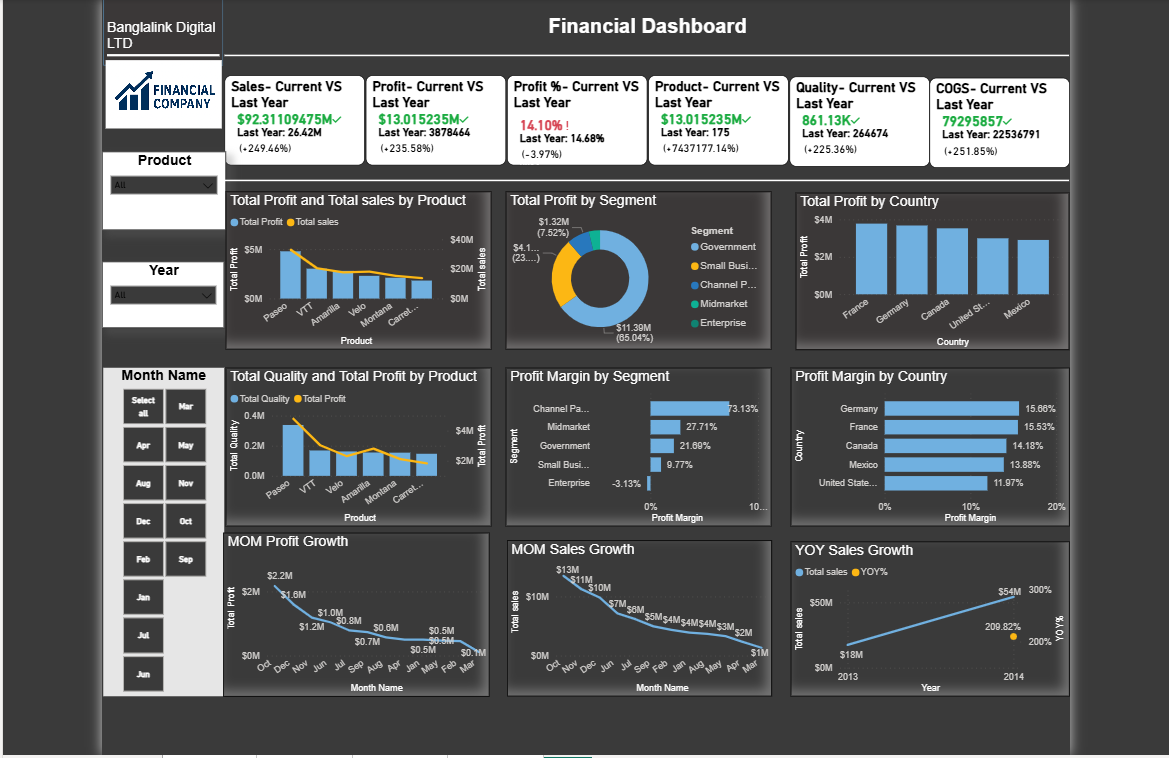

The page's visual inventory and layout, read from the dashboard file:
{"tool":"powerbi","page":{"name":"Page 1","canvas":[1280,1000],"ordinal":0},"visuals":[{"type":"shape","box":[1.7,0,158.7,88],"z":2},{"type":"shape","box":[161.9,67.2,1117,13.7],"z":3},{"type":"kpi","title":"Sales- Current VS Last Year","fields":{"Indicator":["Measure.Total sales"],"TrendLine":["DateMaster.Year"],"Goal":["Measure.Last Year Sales"]},"box":[161.9,100.2,185.2,119.4],"z":12},{"type":"kpi","title":"Profit- Current VS Last Year","fields":{"TrendLine":["DateMaster.Year"],"Indicator":["Measure.Total Profit"],"Goal":["Measure.Last Year Profit"]},"box":[348.5,100.2,185.2,119.4],"z":13},{"type":"kpi","title":"Profit %- Current VS Last Year","fields":{"TrendLine":["DateMaster.Year"],"Indicator":["Measure.Profit Margin"],"Goal":["Measure.last year profit %"]},"box":[535.2,101.5,185.2,119.4],"z":14},{"type":"kpi","title":"Product- Current VS Last Year","fields":{"TrendLine":["DateMaster.Year"],"Indicator":["Measure.Total Profit"],"Goal":["Measure.last year product"]},"box":[721.8,101.5,185.2,119.4],"z":15},{"type":"kpi","title":"Quality- Current VS Last Year","fields":{"TrendLine":["DateMaster.Year"],"Indicator":["Measure.Total Quality"],"Goal":["Measure.Last Year Quality"]},"box":[908.4,102.9,185.2,119.4],"z":16},{"type":"kpi","title":"COGS- Current VS Last Year","fields":{"TrendLine":["DateMaster.Year"],"Indicator":["Measure.COGS"],"Goal":["Measure.Last Year COGS"]},"box":[1095,104.3,185.2,119.4],"z":17},{"type":"slicer","title":"Product","fields":{"Values":["financials.Product"]},"box":[0,201.7,163.6,104.1],"z":18},{"type":"shape","box":[161.9,233.3,1117,13.7],"z":19},{"type":"slicer","title":"Year","fields":{"Values":["DateMaster.Year"]},"box":[0,347.1,162,87.6],"z":20},{"type":"slicer","title":"Month Name","fields":{"Values":["DateMaster.Month Name"]},"box":[1.7,487.6,160.3,434.7],"z":21},{"type":"shape","title":"Financial Dashboard","box":[163.3,22,1115.6,32.9],"z":22},{"type":"lineClusteredColumnComboChart","fields":{"Y":["Measure.Total Profit"],"Category":["financials.Product"],"Y2":["Measure.Total sales"]},"box":[163.3,253.9,351.3,208.6],"z":23},{"type":"lineClusteredColumnComboChart","fields":{"Y":["Measure.Total Quality"],"Category":["financials.Product"],"Y2":["Measure.Total Profit"]},"box":[163.3,487.1,351.3,209.9],"z":24},{"type":"donutChart","fields":{"Category":["financials.Segment"],"Y":["Measure.Total Profit"]},"box":[533.8,255.2,351.3,208.6],"z":25},{"type":"clusteredColumnChart","fields":{"Category":["financials.Country"],"Y":["Measure.Total Profit"]},"box":[917.4,256.2,362,208.3],"z":26},{"type":"barChart","fields":{"Y":["Measure.Profit Margin"],"Category":["financials.Segment"]},"box":[533.8,487.1,351.3,209.9],"z":27},{"type":"lineChart","title":"MOM Sales Growth","fields":{"Category":["DateMaster.Month Name"],"Y":["Measure.Total sales"]},"box":[535.5,715.7,350.4,206.6],"z":29},{"type":"lineChart","title":"YOY Sales Growth","fields":{"Category":["DateMaster.Year"],"Y":["Measure.Total sales"],"Y2":["Measure.YOY%"]},"box":[910.7,717.4,368.6,205],"z":30},{"type":"lineChart","title":"MOM Profit Growth","fields":{"Category":["DateMaster.Month Name"],"Y":["Measure.Total Profit"]},"box":[160.3,705.8,352.1,216.5],"z":31},{"type":"barChart","fields":{"Y":["Measure.Profit Margin"],"Category":["financials.Country"]},"box":[910.7,487.6,368.6,209.9],"z":32},{"type":"image","box":[0,76,163.6,100],"z":33},{"type":"shape","title":"Banglalink Digital LTD","box":[6.6,26.4,148.8,49.6],"z":34}]}

Visuals, with their boxes on the page's 1280x1000 design canvas (x1, y1, x2, y2). These are canvas units, not pixel positions in the 1169x758 screenshot, which may show the page scaled, cropped or inside an application window:
shape: bbox=(2, 0, 160, 88)
shape: bbox=(162, 67, 1279, 81)
"Sales- Current VS Last Year" kpi: bbox=(162, 100, 347, 220)
"Profit- Current VS Last Year" kpi: bbox=(348, 100, 534, 220)
"Profit %- Current VS Last Year" kpi: bbox=(535, 102, 720, 221)
"Product- Current VS Last Year" kpi: bbox=(722, 102, 907, 221)
"Quality- Current VS Last Year" kpi: bbox=(908, 103, 1094, 222)
"COGS- Current VS Last Year" kpi: bbox=(1095, 104, 1280, 224)
"Product" slicer: bbox=(0, 202, 164, 306)
shape: bbox=(162, 233, 1279, 247)
"Year" slicer: bbox=(0, 347, 162, 435)
"Month Name" slicer: bbox=(2, 488, 162, 922)
"Financial Dashboard" shape: bbox=(163, 22, 1279, 55)
lineClusteredColumnComboChart - Measure.Total Profit x financials.Product: bbox=(163, 254, 515, 462)
lineClusteredColumnComboChart - Measure.Total Quality x financials.Product: bbox=(163, 487, 515, 697)
donutChart - financials.Segment x Measure.Total Profit: bbox=(534, 255, 885, 464)
clusteredColumnChart - financials.Country x Measure.Total Profit: bbox=(917, 256, 1279, 464)
barChart - Measure.Profit Margin x financials.Segment: bbox=(534, 487, 885, 697)
"MOM Sales Growth" lineChart: bbox=(536, 716, 886, 922)
"YOY Sales Growth" lineChart: bbox=(911, 717, 1279, 922)
"MOM Profit Growth" lineChart: bbox=(160, 706, 512, 922)
barChart - Measure.Profit Margin x financials.Country: bbox=(911, 488, 1279, 698)
image: bbox=(0, 76, 164, 176)
"Banglalink Digital LTD" shape: bbox=(7, 26, 155, 76)
